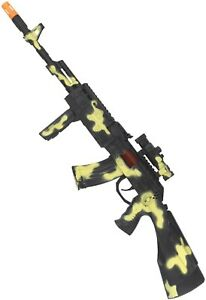Arma Falsa: (1, 1, 203, 300)
